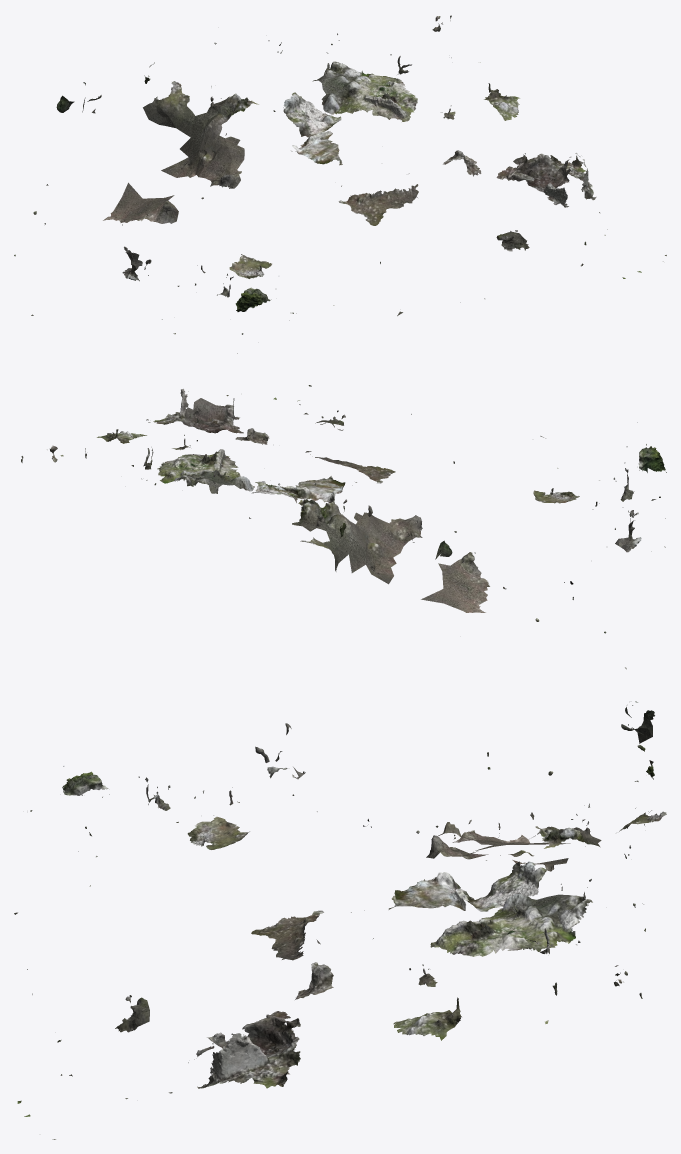
3 renders of one model, top to bottom at view 1: azimuth 30°, elevation 25°; view 2: azimuth 150°, elevation 25°; view 3: azimuth 270°, elevation 25°, orthographic. The views are drawn at different scales.
Size of the model in its own units: 56.31 by 18.75 by 43.67.
Materials: 1 (1 with a texture image).
